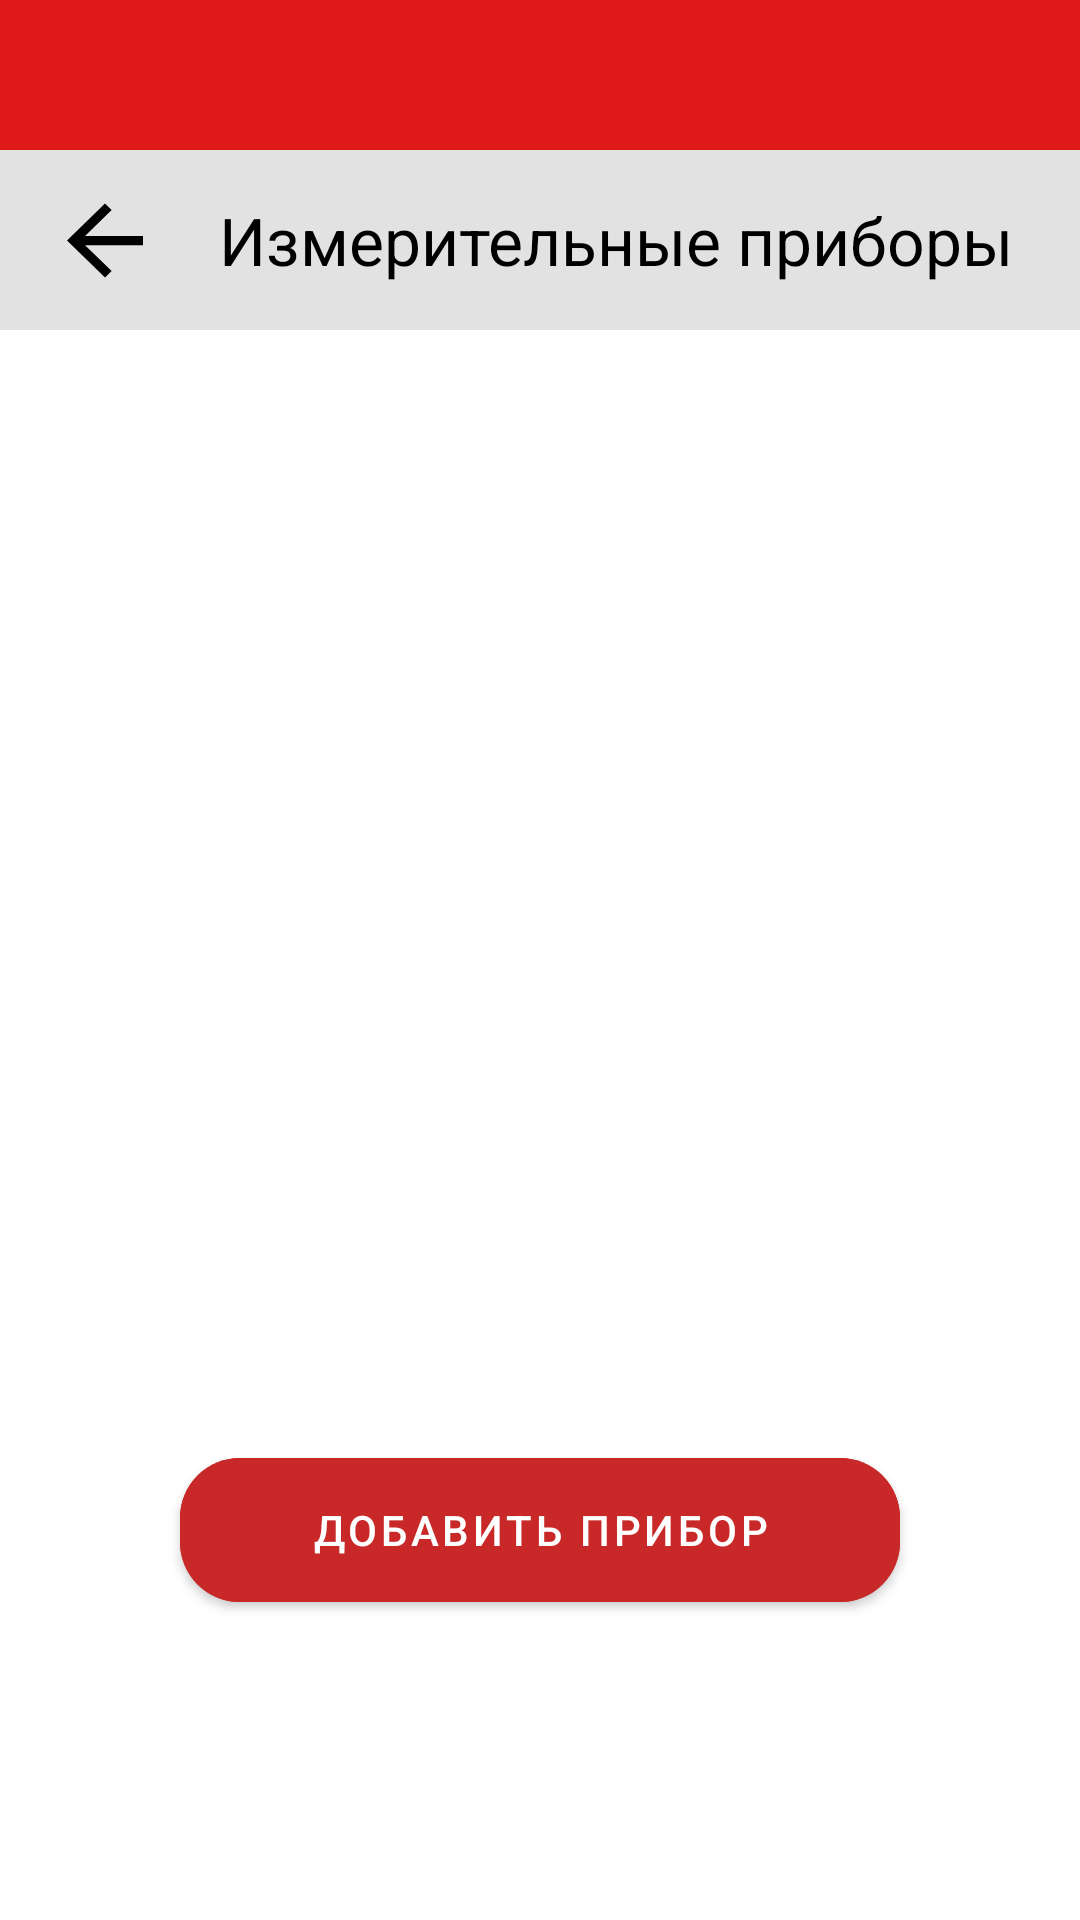

Named icons in this screenshot (1080×1920) and their centers, [x,y]:
back to menu: [105,240]
